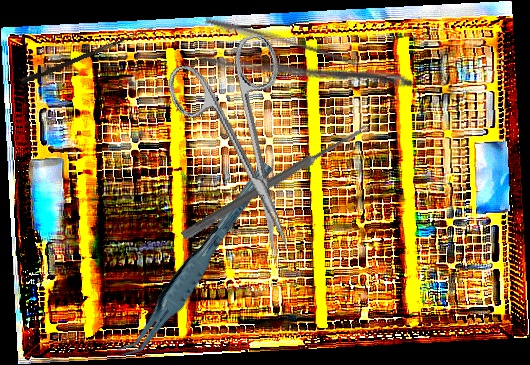Dressing Forceps: (193, 13, 417, 123)
Hook Surgical: (20, 21, 154, 87)
Iris Scissors: (161, 30, 330, 266)
Surgical Spoon: (180, 121, 371, 242)
Tissue Forceps: (99, 159, 295, 364)
